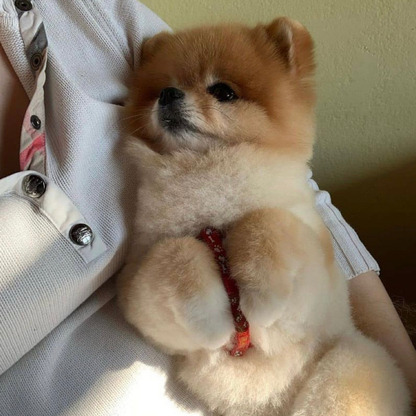Pomeranian: (97, 34, 355, 390)
